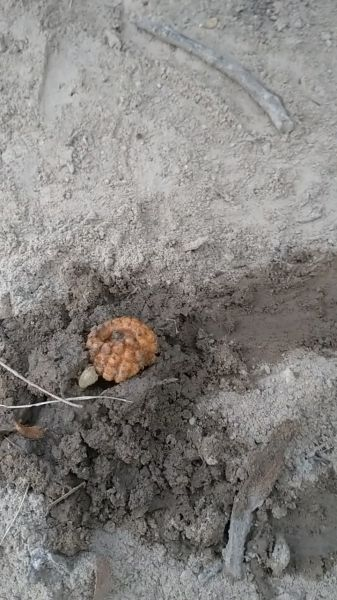eggs: (80, 313, 163, 384)
